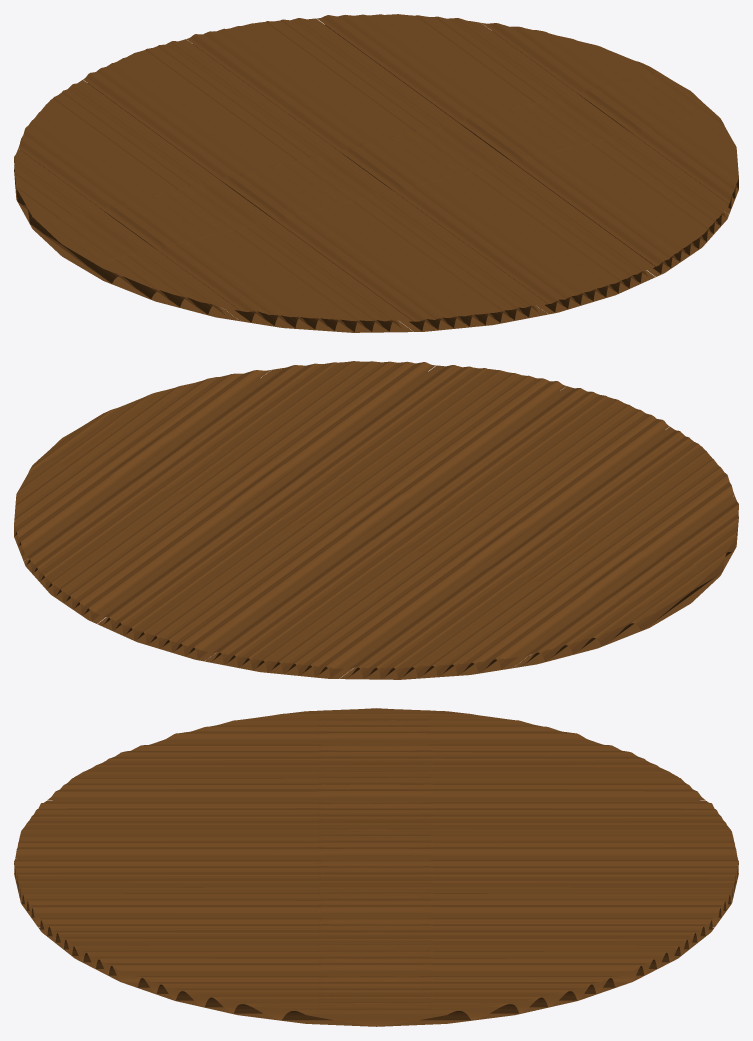
File: Токен из картона плоский круглый.fbx
The picture shows the model from 3 angles, top to bottom: view 1: azimuth 30°, elevation 25°; view 2: azimuth 150°, elevation 25°; view 3: azimuth 270°, elevation 25°; orthographic projection.
Visible parts, largest first — view 1: BezierCurve.003; view 2: BezierCurve.003; view 3: BezierCurve.003.
Boxes of the visible parts, box(x1,y1,x2,y2) form: BezierCurve.003: box(14, 14, 738, 332); BezierCurve.003: box(14, 361, 738, 679); BezierCurve.003: box(14, 708, 738, 1026).
Bounding box in the file's own units: 0.591 × 0.591 × 0.0116.
